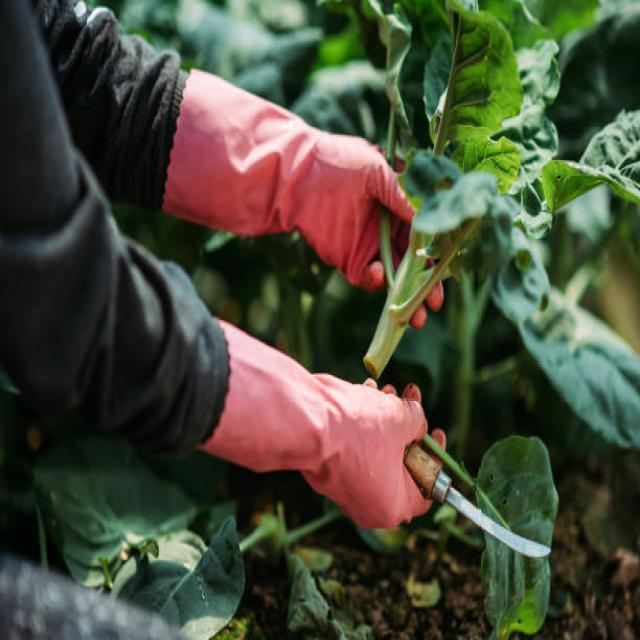faca: (346, 370, 561, 612)
